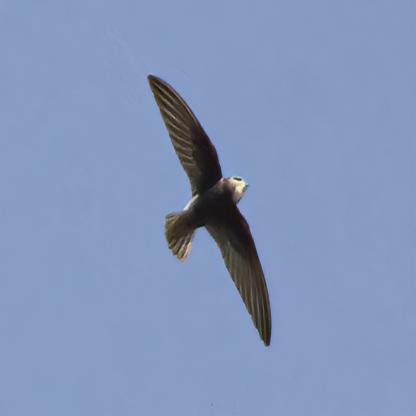Burung: (146, 73, 272, 347), (147, 72, 272, 347)
